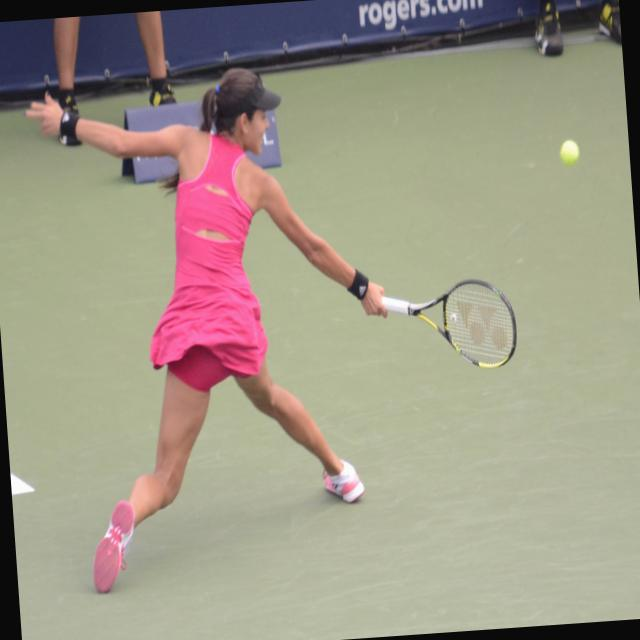Tennis Ball: (558, 138, 581, 166), (556, 136, 578, 165)
